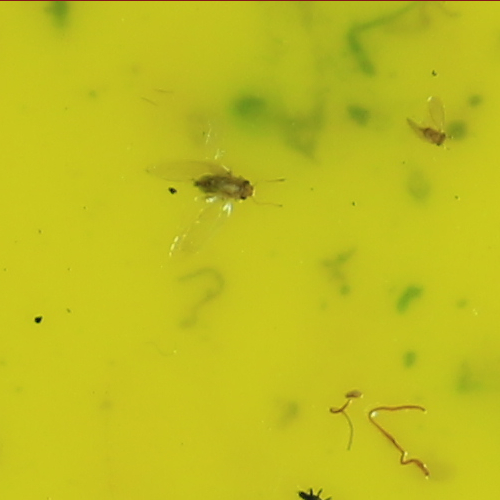psylla: (194, 170, 257, 203), (416, 119, 450, 148)
